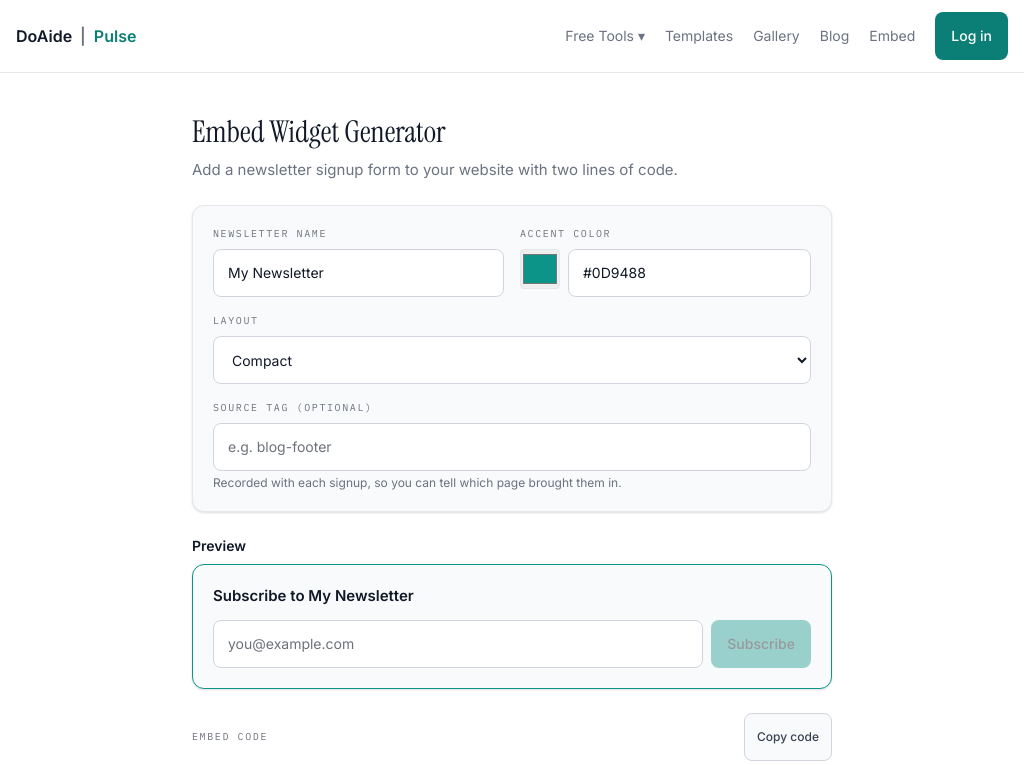
Test: Embed generator › explains a refused clipboard instead of doing nothing
Click the button "Copy code" at (788, 736), box [744,712,832,760]
(page scrolled)
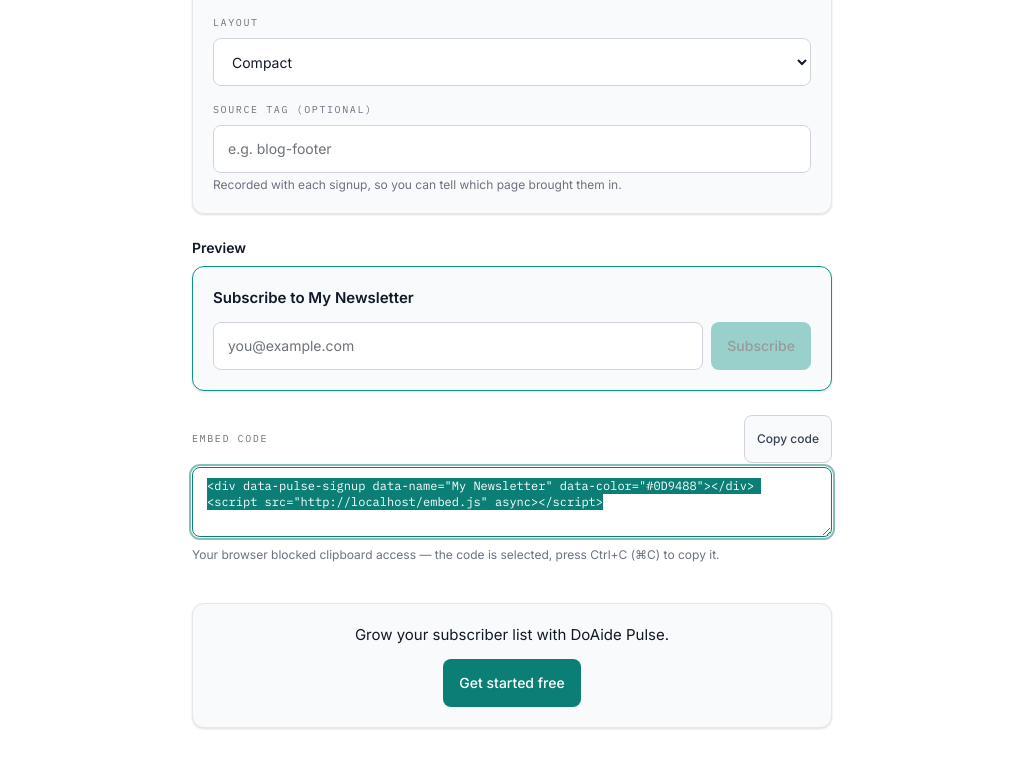
Now the message shows "blocked clipboard access", box [192,547,720,562]
